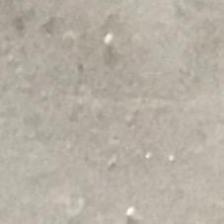Non_Crack: (14, 23, 205, 211)
